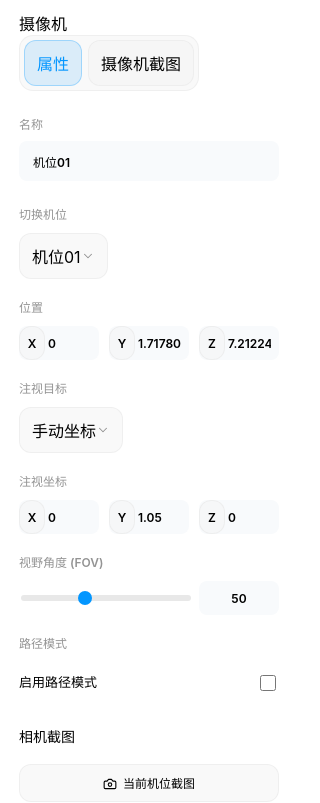
Scenario: captures the current camera preview from the properties tab and shows it in the screenshots overview
The image size is (320, 803).
What coordinates should you click on to do the following:
click the button "当前机位截图"
I would click on:
 (149, 783)
Its box is [19,764,279,802].
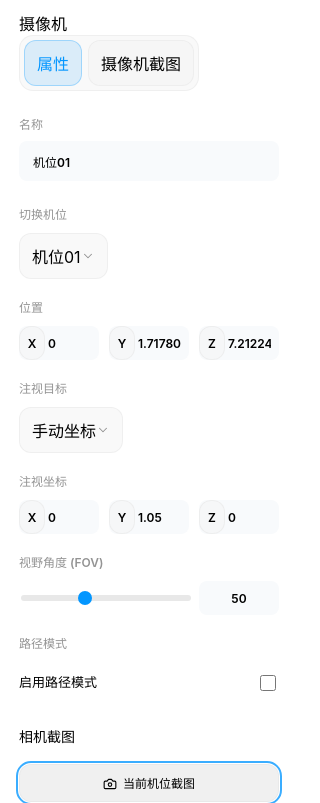
What coordinates should you click on to do the following:
click the button "摄像机截图"
I would click on:
 (141, 63)
Its box is [88,40,194,86].
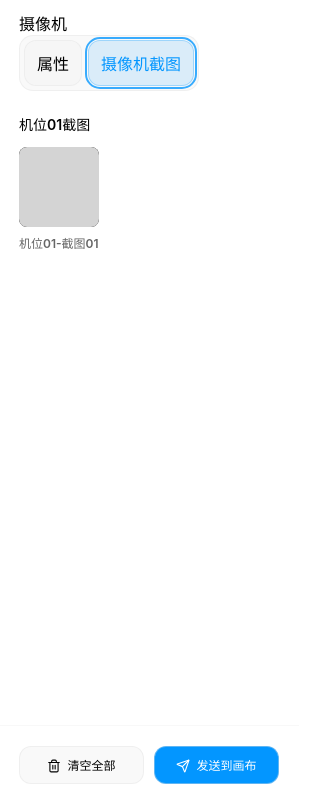
expect the text "机位01-截图01" is shown: met, box [19,235,99,252]
expect the heading "机位01截图" is shown: met, box [19,116,90,133]
